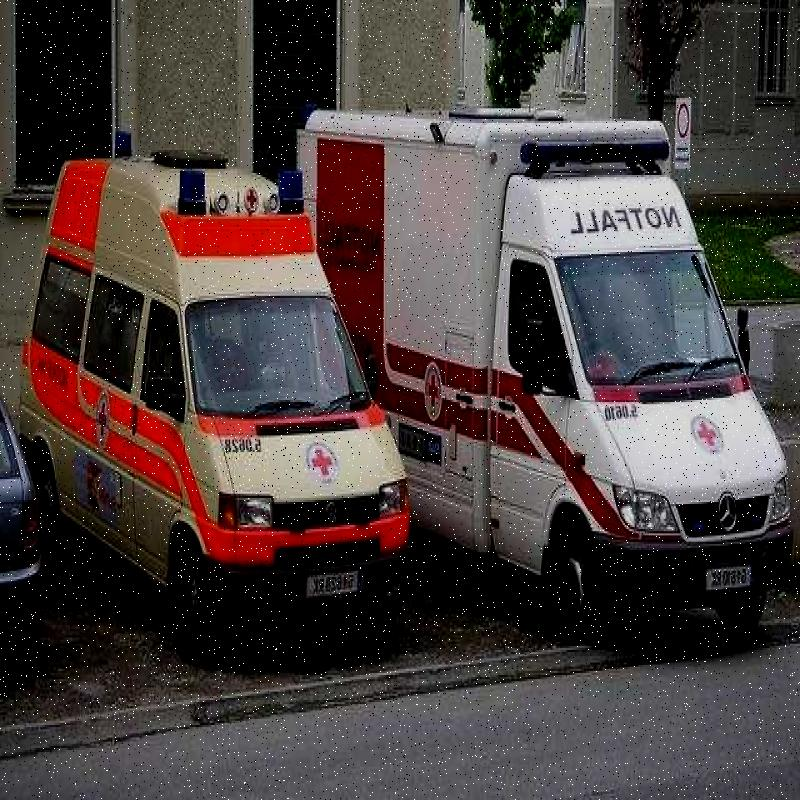AmbulanceSiren: (507, 96, 682, 198), (170, 156, 216, 231), (274, 154, 304, 235)
